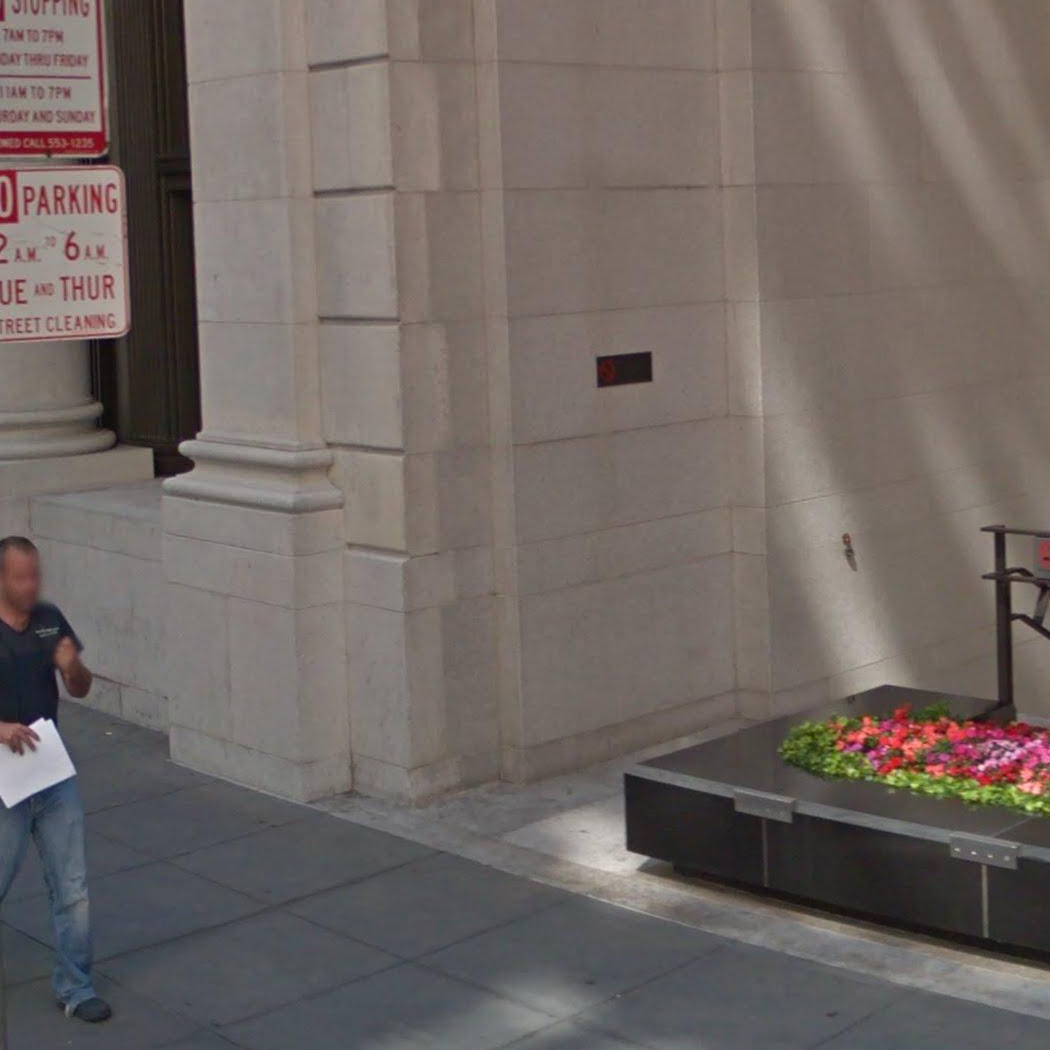No Parking: (0, 162, 136, 349)
